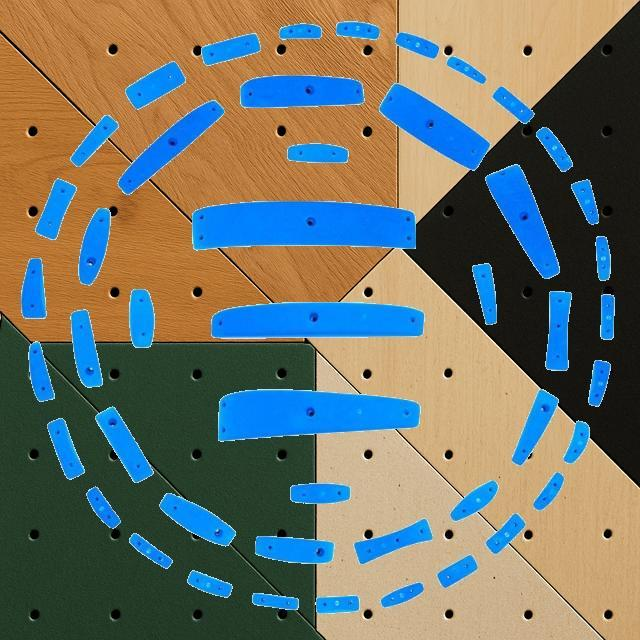Pinch: (191, 200, 417, 250), (217, 388, 421, 440), (117, 100, 225, 194), (378, 82, 490, 170), (484, 164, 560, 278), (210, 301, 424, 337), (95, 406, 153, 482), (240, 74, 364, 108), (158, 491, 236, 545), (353, 518, 433, 564), (514, 390, 558, 466), (124, 60, 186, 108), (70, 114, 118, 166), (37, 180, 77, 240), (72, 310, 102, 388), (80, 208, 110, 286), (254, 535, 334, 563), (256, 537, 336, 565), (49, 420, 85, 480), (546, 291, 572, 371), (200, 33, 260, 66), (450, 481, 498, 522), (472, 264, 498, 326), (491, 85, 533, 123), (488, 512, 526, 554), (536, 126, 572, 170), (29, 343, 55, 403), (86, 486, 120, 530), (22, 258, 46, 320), (130, 532, 170, 568), (130, 290, 154, 348), (438, 554, 478, 588), (286, 143, 348, 163), (572, 181, 600, 225), (188, 570, 232, 598), (290, 484, 350, 504), (534, 472, 564, 512), (395, 32, 439, 58), (446, 55, 486, 83), (381, 582, 423, 608), (564, 422, 590, 464), (590, 360, 610, 406), (253, 592, 297, 610), (336, 22, 379, 40), (316, 595, 358, 613), (596, 237, 612, 280), (279, 24, 321, 40), (601, 296, 615, 340)
